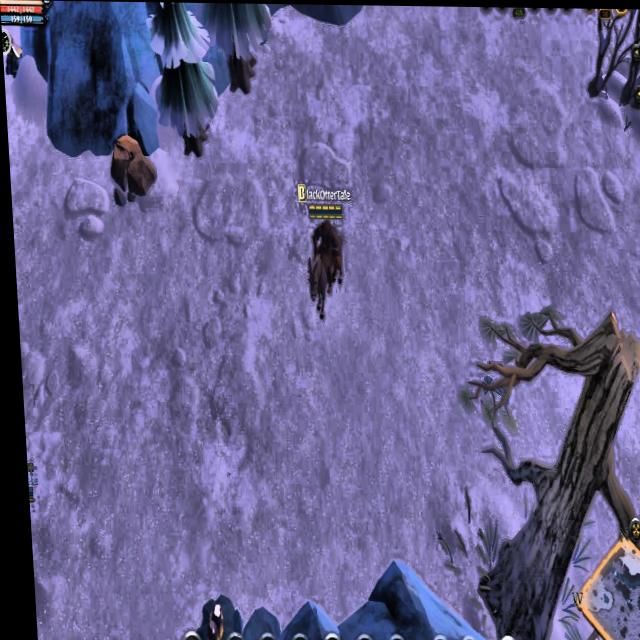copperore: (1, 31, 28, 76)
limestone: (105, 129, 157, 206)
